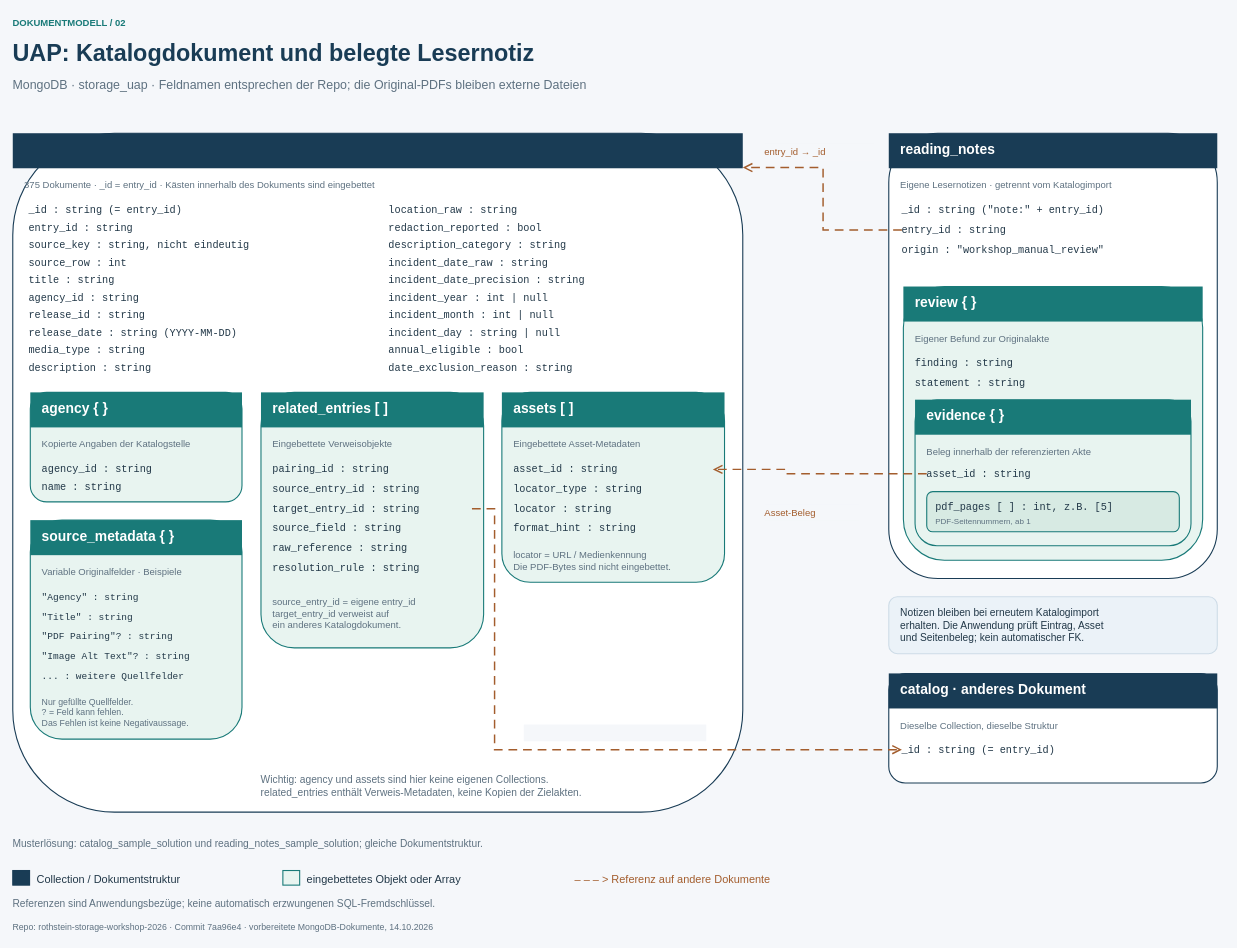
Image size: 1237x948. Some labels were removed from this diagram. Here are the shapes that lost their labels. From the top down, the centre of each, then its label:
At (x=377, y=150): "catalog".
At (x=614, y=732): "target_entry_id → _id".
